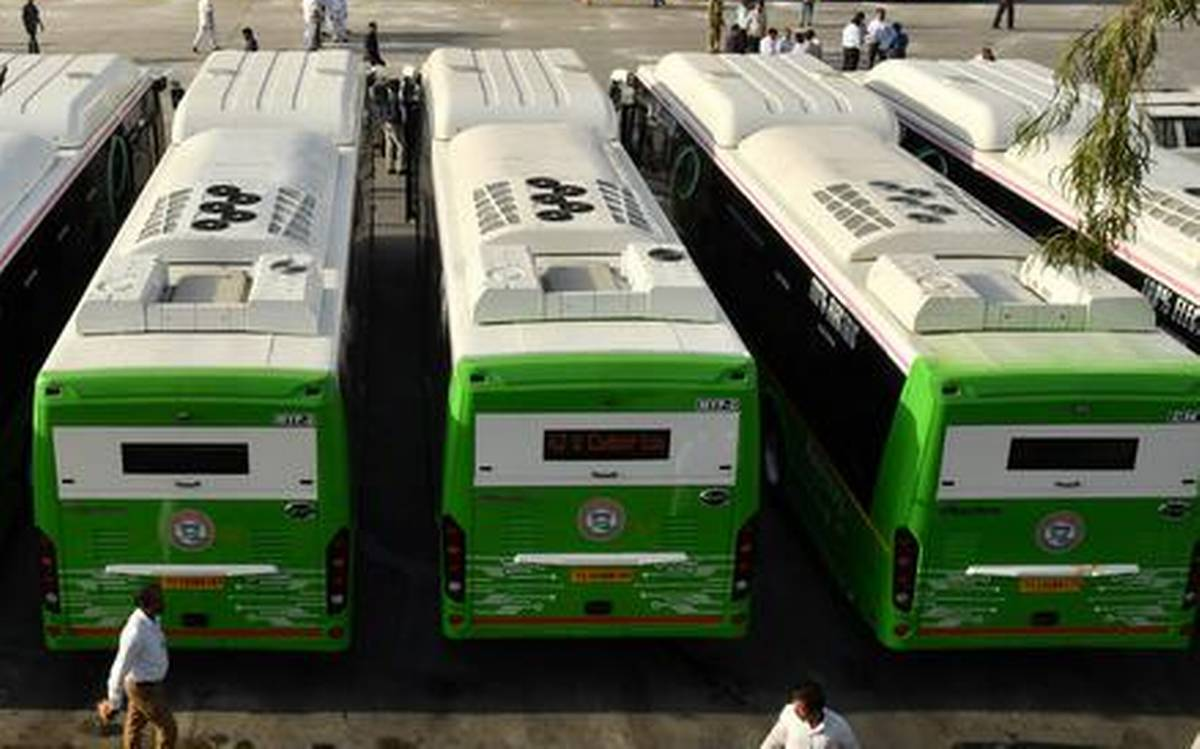bus: (718, 33, 1200, 657), (398, 48, 759, 653), (42, 50, 378, 663)
